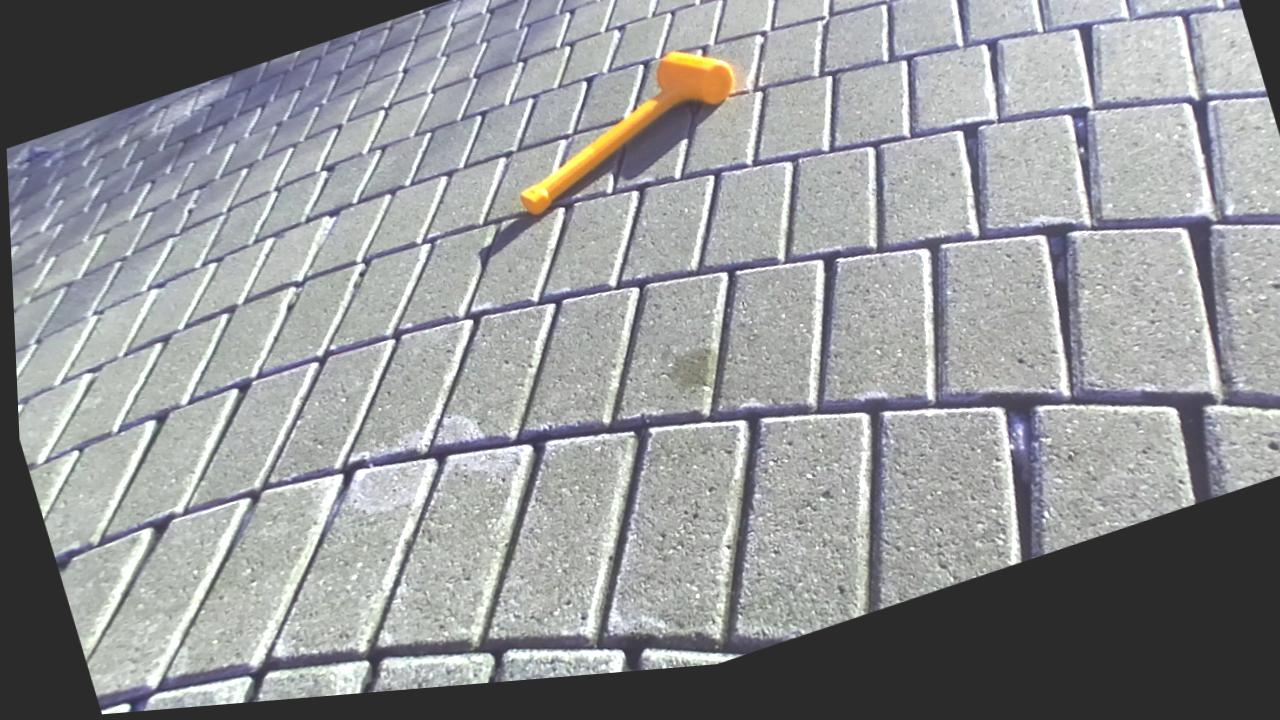mallet: (520, 51, 732, 212)
